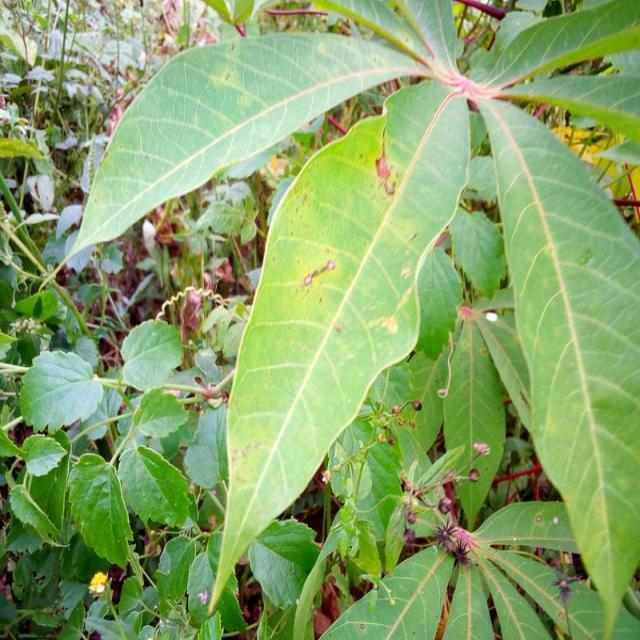cassava leaf: (62, 1, 638, 637), (204, 75, 472, 618), (471, 90, 639, 636)
